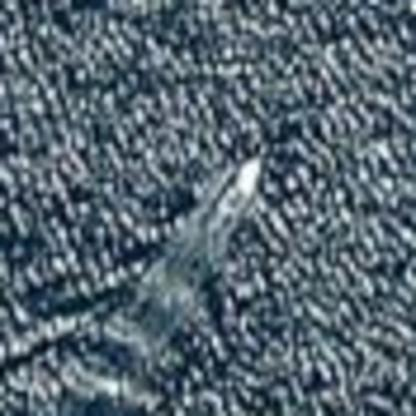ship: (228, 152, 276, 197)
